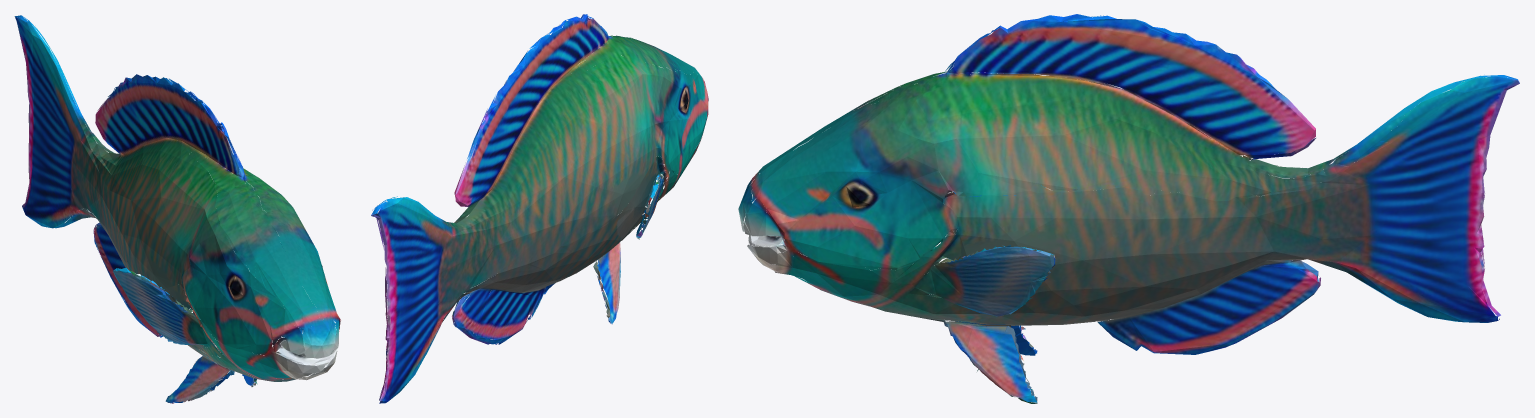
Rendered from sparisoma-cretense.glb.
The picture shows the model from 3 angles, left to right: view 1: azimuth 30°, elevation 25°; view 2: azimuth 150°, elevation 25°; view 3: azimuth 270°, elevation 25°; orthographic projection. The views are drawn at different scales.
Visible parts, largest first — view 1: geometry_0.001; view 2: geometry_0.001; view 3: geometry_0.001.
Part boxes in pixels (x1,y1,x2,y2): geometry_0.001: (14, 15, 340, 403); geometry_0.001: (371, 14, 708, 403); geometry_0.001: (738, 14, 1519, 403).
Size of the model in its own units: 0.6453 by 1.03 by 2.
1 material, 1 textured.
